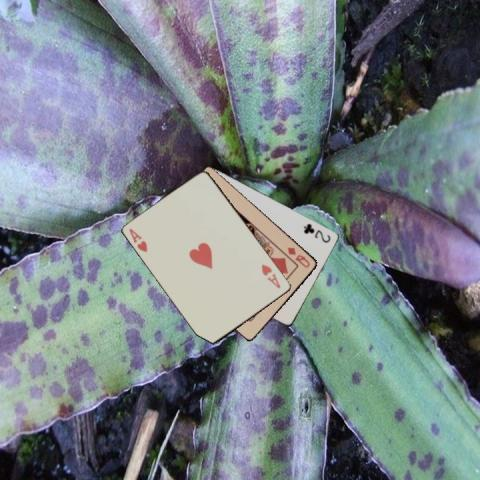2c: (301, 221, 332, 244)
Ah: (259, 261, 282, 290), (126, 225, 149, 254)
Qd: (285, 244, 311, 269)
